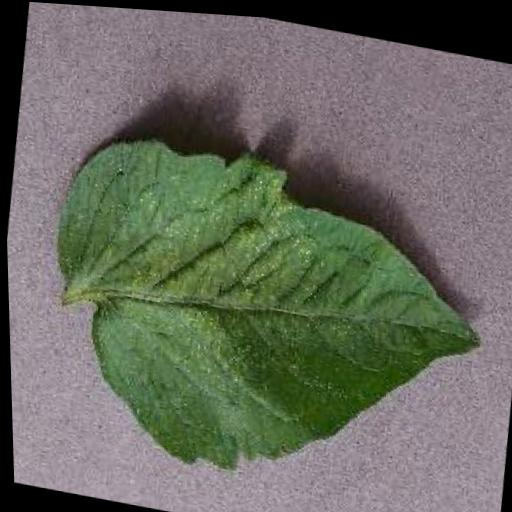Spider Mites: (28, 119, 502, 510)
